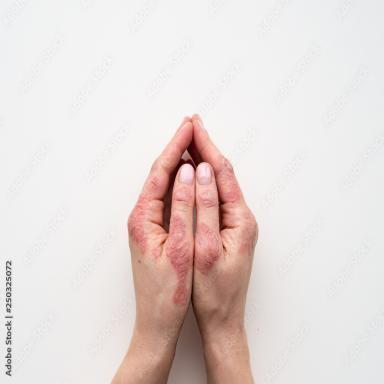Psoriasis: (127, 175, 159, 255), (166, 215, 193, 307), (194, 226, 221, 275), (219, 153, 241, 203), (173, 187, 192, 201), (199, 189, 216, 203), (239, 238, 251, 255), (153, 247, 161, 258), (241, 210, 249, 220)
